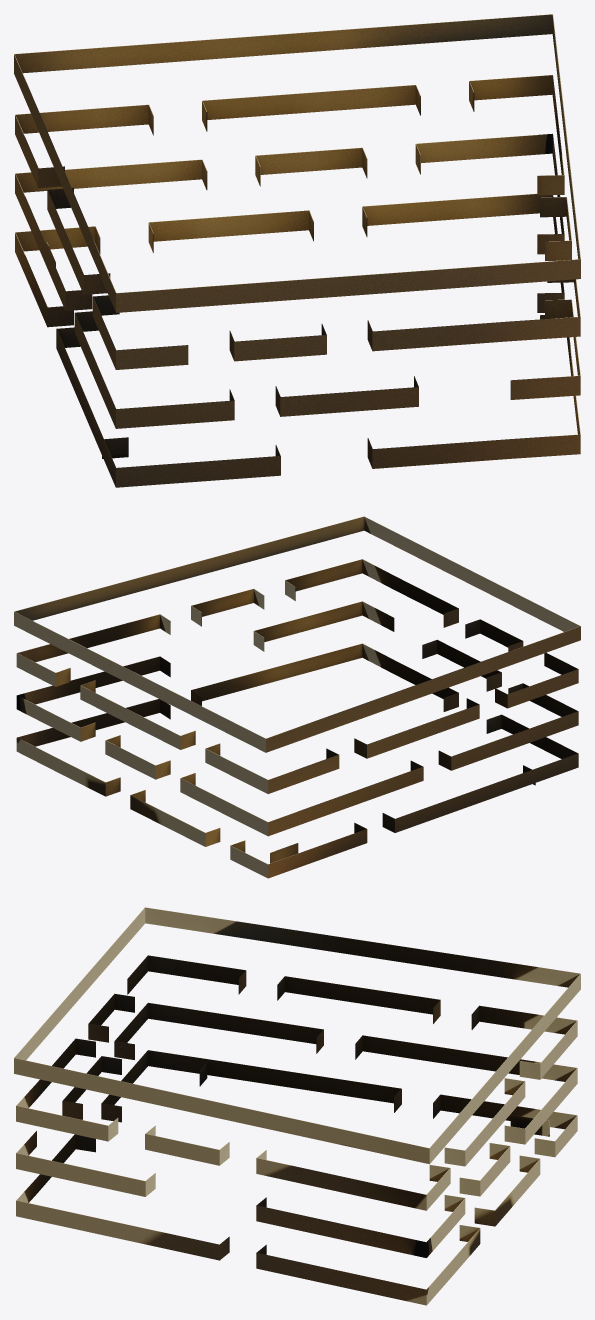
The model's file is Balustrade_02.fbx.
3 renders of one model, top to bottom at view 1: azimuth 30°, elevation 25°; view 2: azimuth 150°, elevation 25°; view 3: azimuth 270°, elevation 25°, orthographic. The views are drawn at different scales.
Parts seen in each view (by area): view 1: Balustrade_02; view 2: Balustrade_02; view 3: Balustrade_02.
Part boxes in pixels (x1,y1,x2,y2): Balustrade_02: (14,14,580,487); Balustrade_02: (14,516,580,878); Balustrade_02: (14,907,580,1305).
Size of the model in its own units: 32.8 by 10.21 by 32.59.
Materials: 1 (1 with a texture image).
